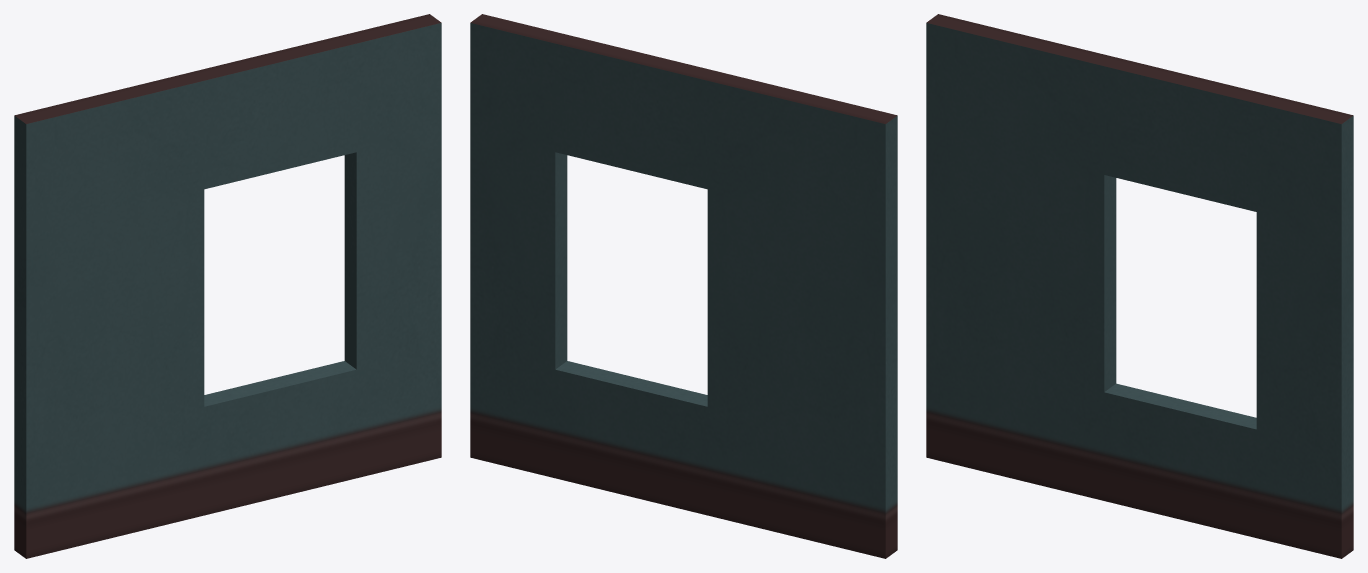
The model's file is Wall_4_D.fbx.
3 renders of one model, left to right at view 1: azimuth 30°, elevation 25°; view 2: azimuth 150°, elevation 25°; view 3: azimuth 330°, elevation 25°, orthographic.
Parts seen in each view (by area): view 1: pCube11; view 2: pCube11; view 3: pCube11.
Boxes of the visible parts, x1,y1,x2,y2 form: pCube11: [14, 14, 441, 558]; pCube11: [470, 14, 897, 558]; pCube11: [926, 14, 1353, 558].
Size of the model in its own units: 4 by 4 by 0.2.
